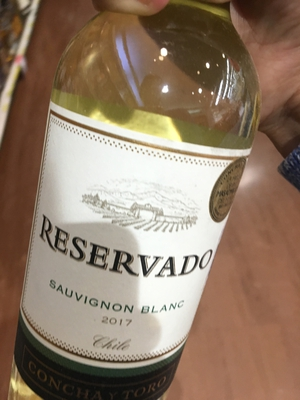reservado sauvignon blanc: (27, 38, 245, 400)
